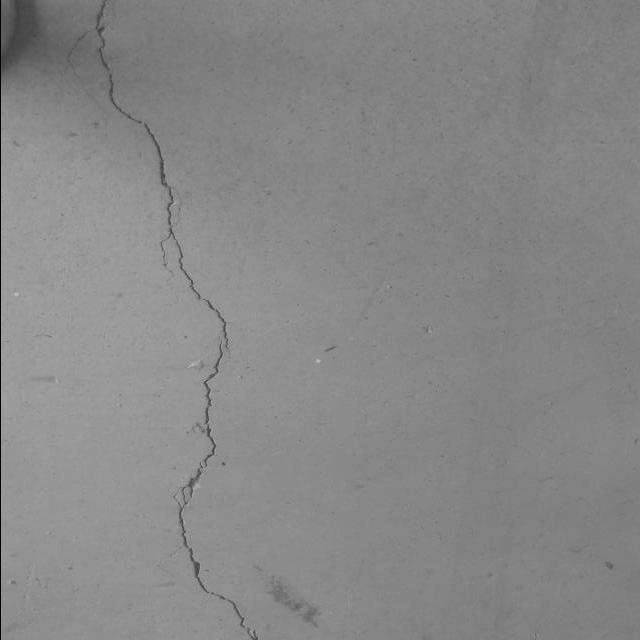SurfaceCrack: (62, 0, 255, 638)
